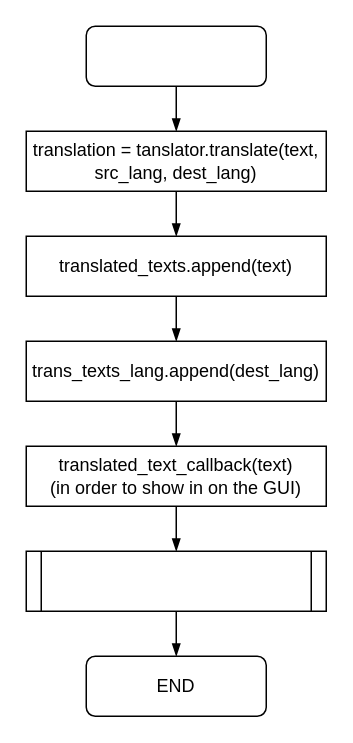
This 353x743 diagram has some shape labels left out. The shapes that lost their labels are listed below. From the top down, each one's centre as x and y in pixels, then its label:
At pixel 175 55: "TRANSLATE(text)".
At pixel 175 580: "REPRODUCE(text, dest_lang)".
